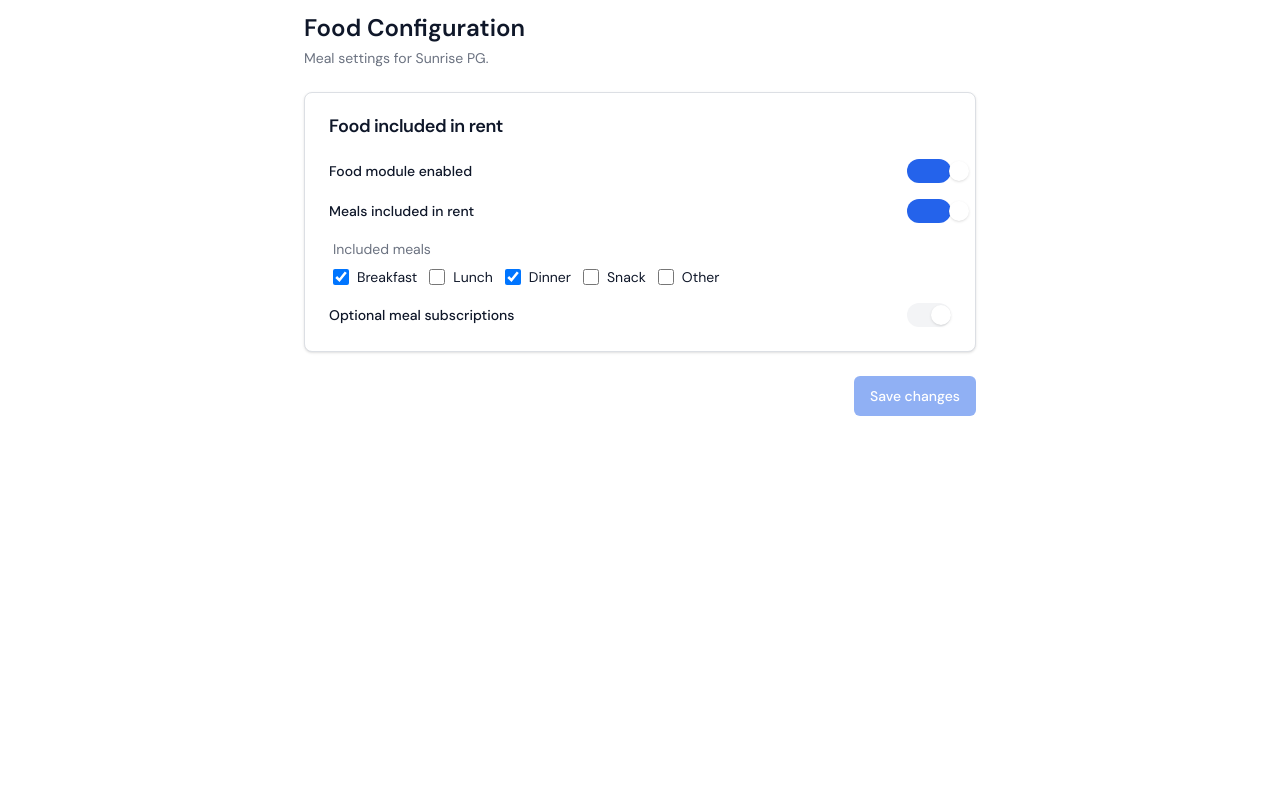
Test: FoodConfigurationPage › enables save once a toggle is changed, and persists it
The width and height of the screenshot is (1280, 812).
Click the switch named "optional meal subscriptions": (929, 315) [907,303,951,327]
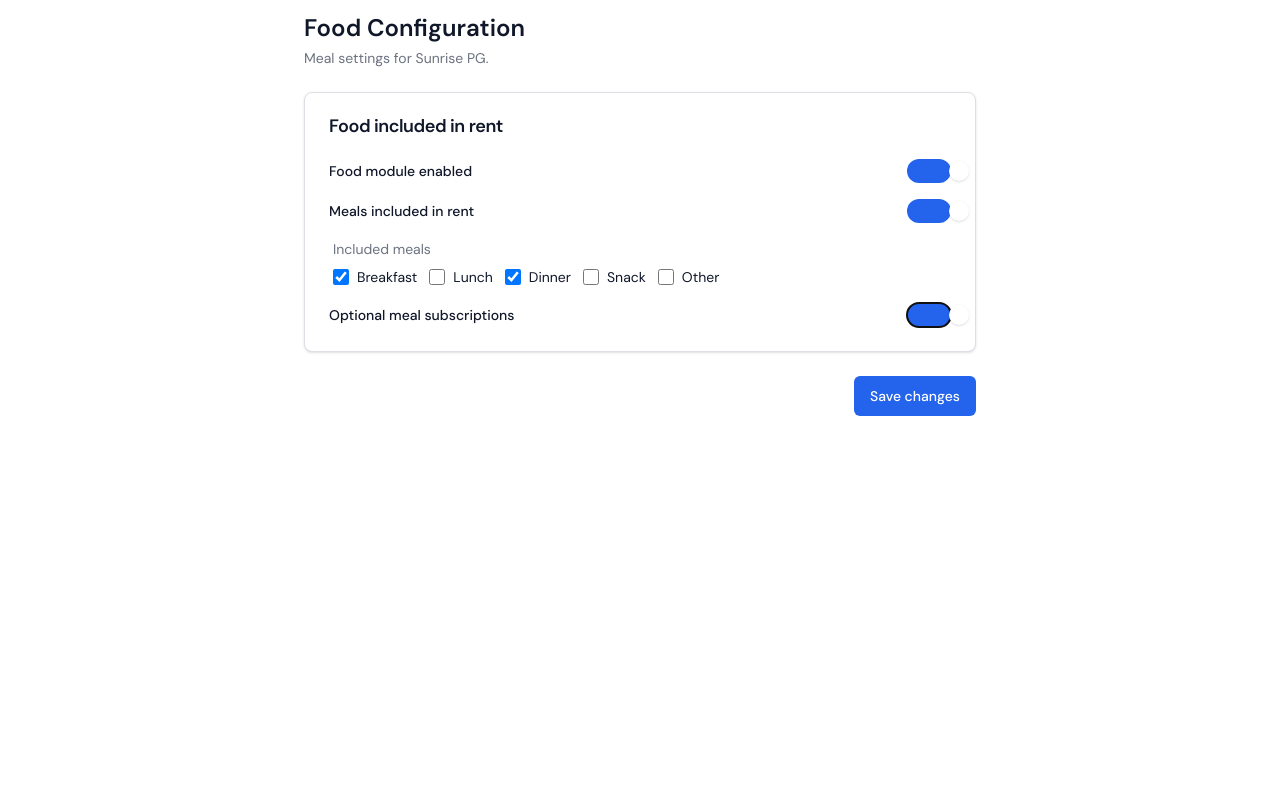
Result: the button "Save changes" is enabled
Click the button "Save changes": (915, 396) [854,376,976,416]
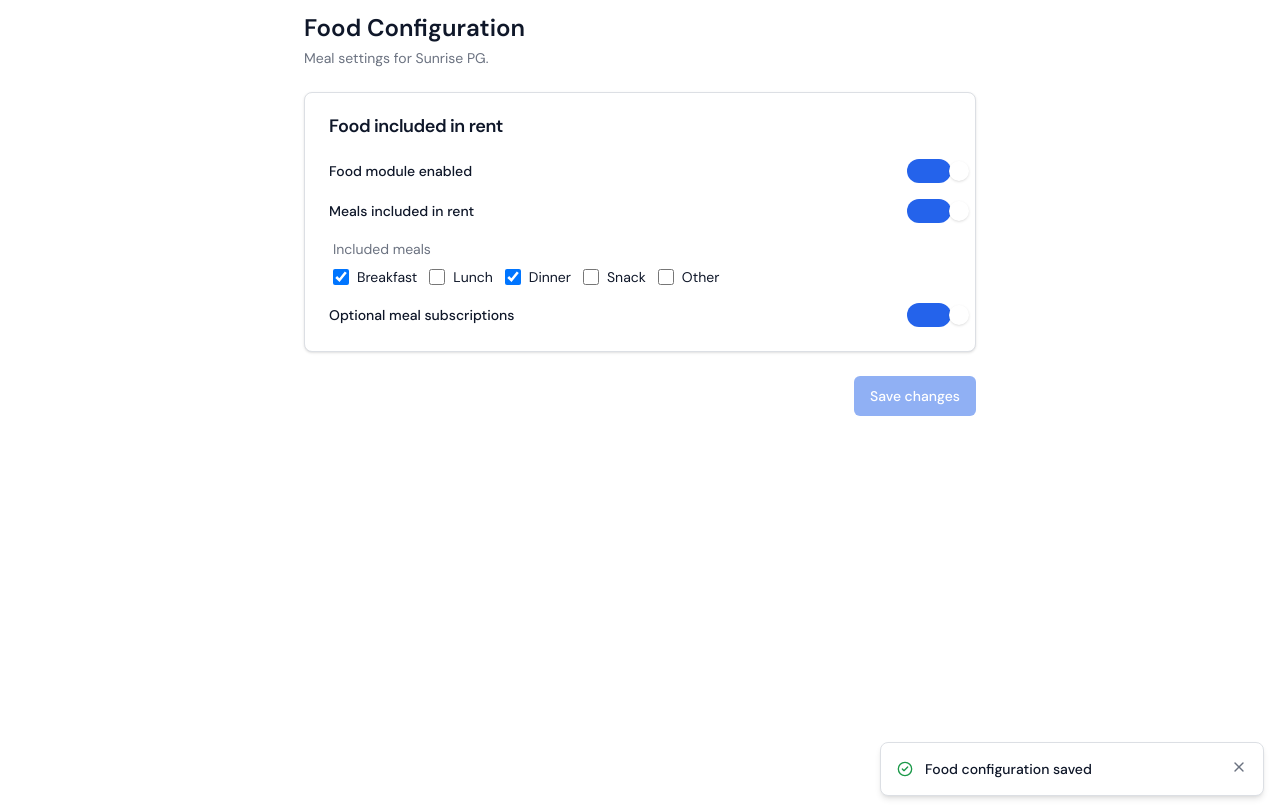
Result: the text "Food configuration saved" is shown at [925,760,1092,778]
